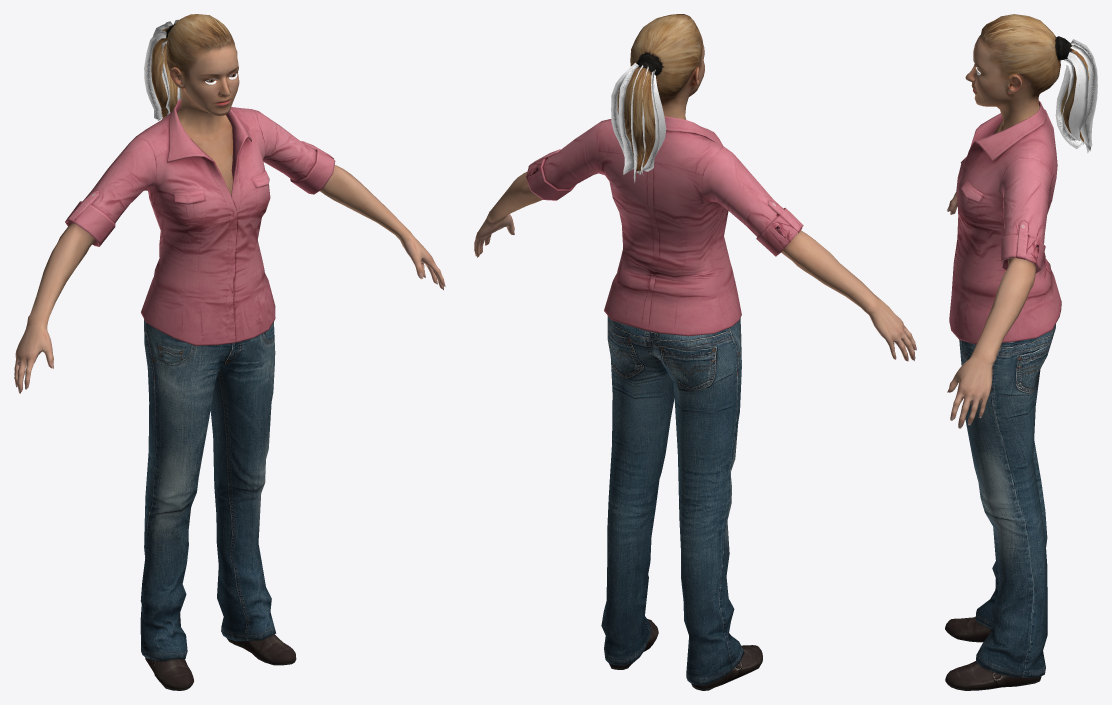
File: RocketboxHuman.obj
3 renders of one model, left to right at view 1: azimuth 30°, elevation 25°; view 2: azimuth 150°, elevation 25°; view 3: azimuth 270°, elevation 25°, orthographic. The views are drawn at different scales.
Visible parts, largest first — view 1: f001_hipoly_81_bones_opacity; view 2: f001_hipoly_81_bones_opacity; view 3: f001_hipoly_81_bones_opacity.
Boxes of the visible parts, x1,y1,x2,y2 form: f001_hipoly_81_bones_opacity: (14,14,445,690); f001_hipoly_81_bones_opacity: (474,14,916,690); f001_hipoly_81_bones_opacity: (945,14,1097,690).
Bounding box in the file's own units: 122 × 174 × 37.61.
3 materials, 2 textured.
